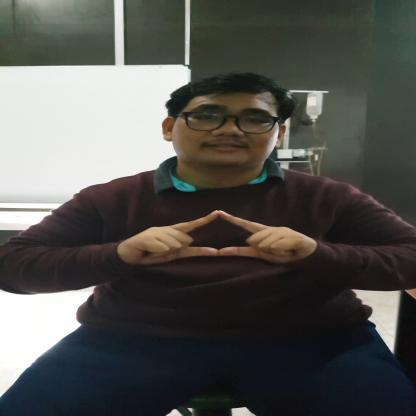A: (118, 209, 316, 265)
